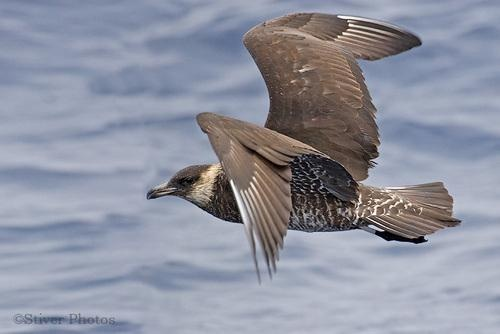bird: (143, 12, 462, 287)
